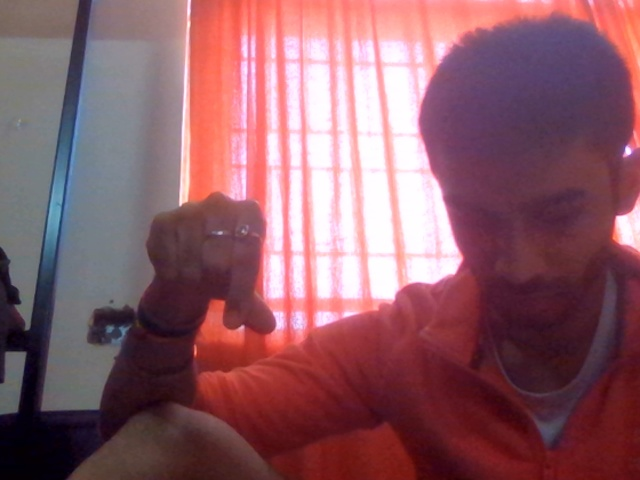Q: (105, 172, 290, 352)
